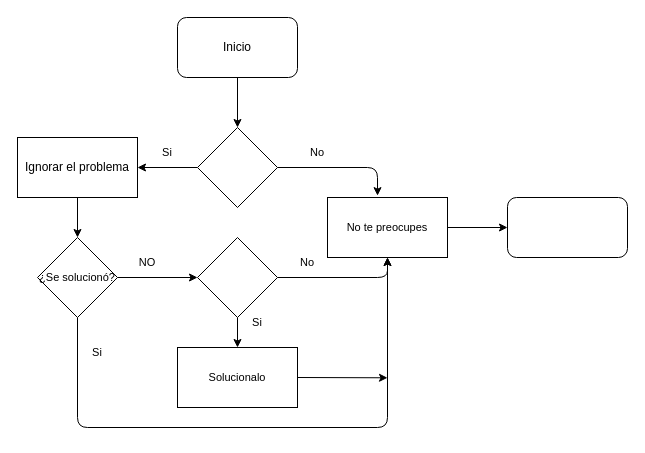
The diagram is 645 pixels wide and 453 high, and some of its shapes have lost their labels. Each missing label, with the box of its shape:
Fin: (506, 196, 628, 258)
¿Tendrá solución?: (196, 236, 278, 318)
¿Tienes un problema?: (196, 126, 278, 208)
